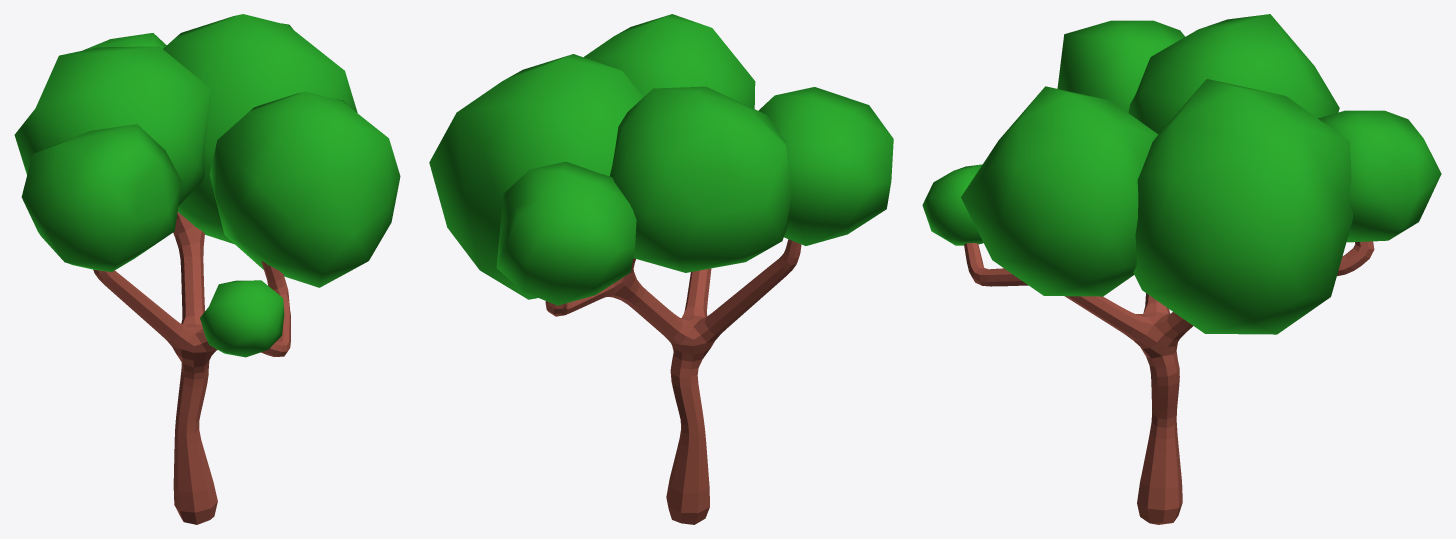
The model's file is Tree.fbx.
3 views of the same model, side by side, from view 1: azimuth 30°, elevation 25°; view 2: azimuth 150°, elevation 25°; view 3: azimuth 270°, elevation 25° (orthographic). The views are drawn at different scales.
Visible parts, largest first — view 1: Icosphere.007, Plane; view 2: Icosphere.007, Plane; view 3: Icosphere.007, Plane.
Boxes of the visible parts, x1=… form: Icosphere.007: x1=14, y1=14, x2=400, y2=357; Plane: x1=93, y1=212, x2=290, y2=524; Icosphere.007: x1=429, y1=14, x2=893, y2=305; Plane: x1=545, y1=239, x2=801, y2=524; Icosphere.007: x1=922, y1=14, x2=1441, y2=334; Plane: x1=964, y1=241, x2=1374, y2=524.
Bounding box in the file's own units: 869 × 1031 × 1013.
